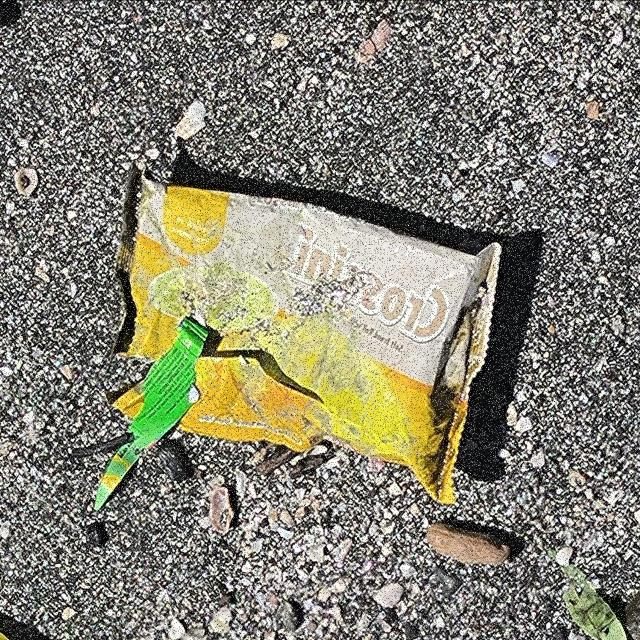plastic_waste: (110, 162, 507, 507)
